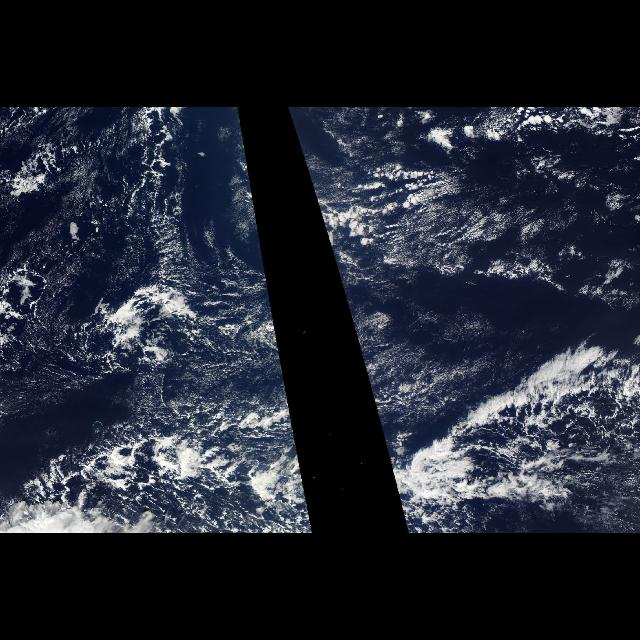Fish: (52, 405, 314, 531)
Gravel: (7, 117, 227, 370)
Sugar: (293, 125, 483, 403), (186, 125, 290, 403)
